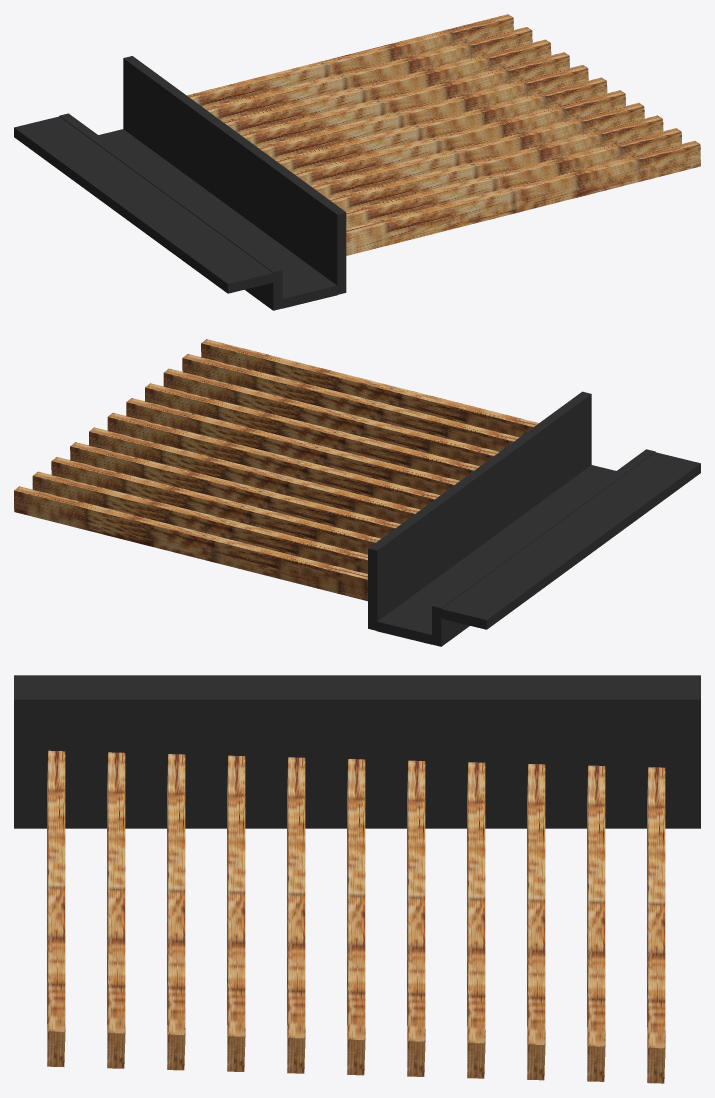
The model's file is naves2.fbx.
3 renders of one model, top to bottom at view 1: azimuth 30°, elevation 25°; view 2: azimuth 150°, elevation 25°; view 3: azimuth 270°, elevation 25°, orthographic. The views are drawn at different scales.
Visible parts, largest first — view 1: Cube.001; view 2: Cube.001; view 3: Cube.001.
Boxes of the visible parts, <box> form: Cube.001: <box>14,14,700,310</box>; Cube.001: <box>14,339,700,646</box>; Cube.001: <box>14,675,700,1083</box>.
Bounding box in the file's own units: 2087 × 333 × 1600.
